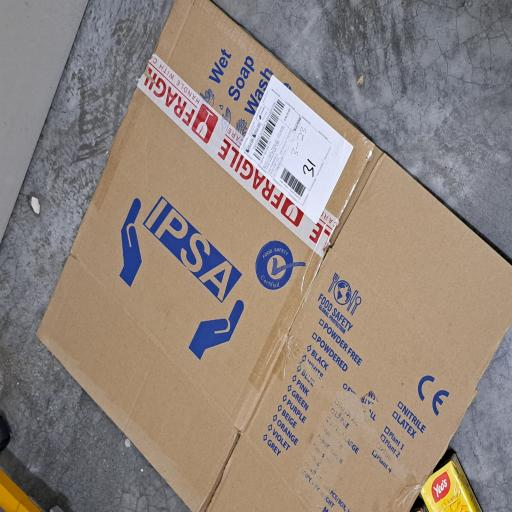cardboard: (0, 49, 384, 512)
